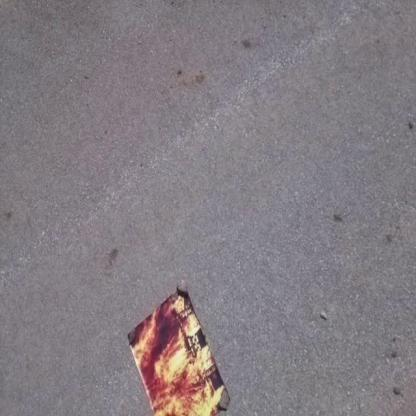fire-poster: (125, 280, 231, 415)
